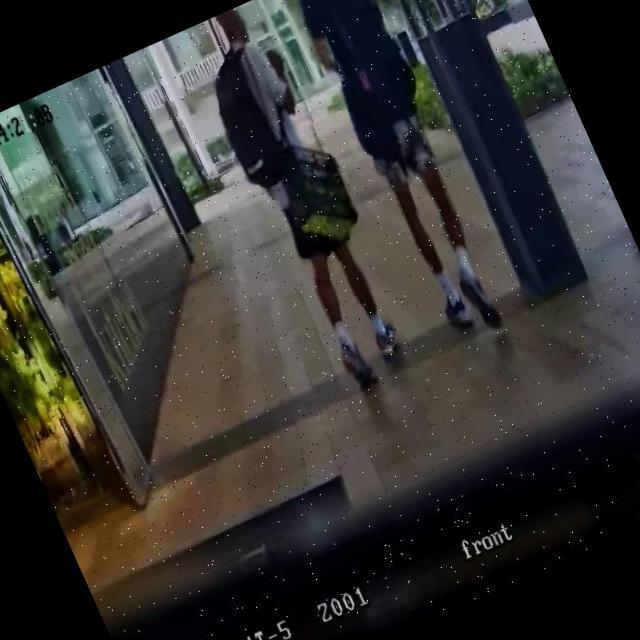person: (179, 0, 418, 398), (285, 0, 521, 350)
